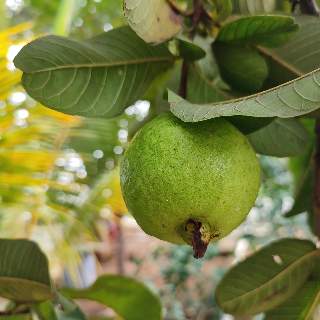oi: (114, 102, 264, 245)
